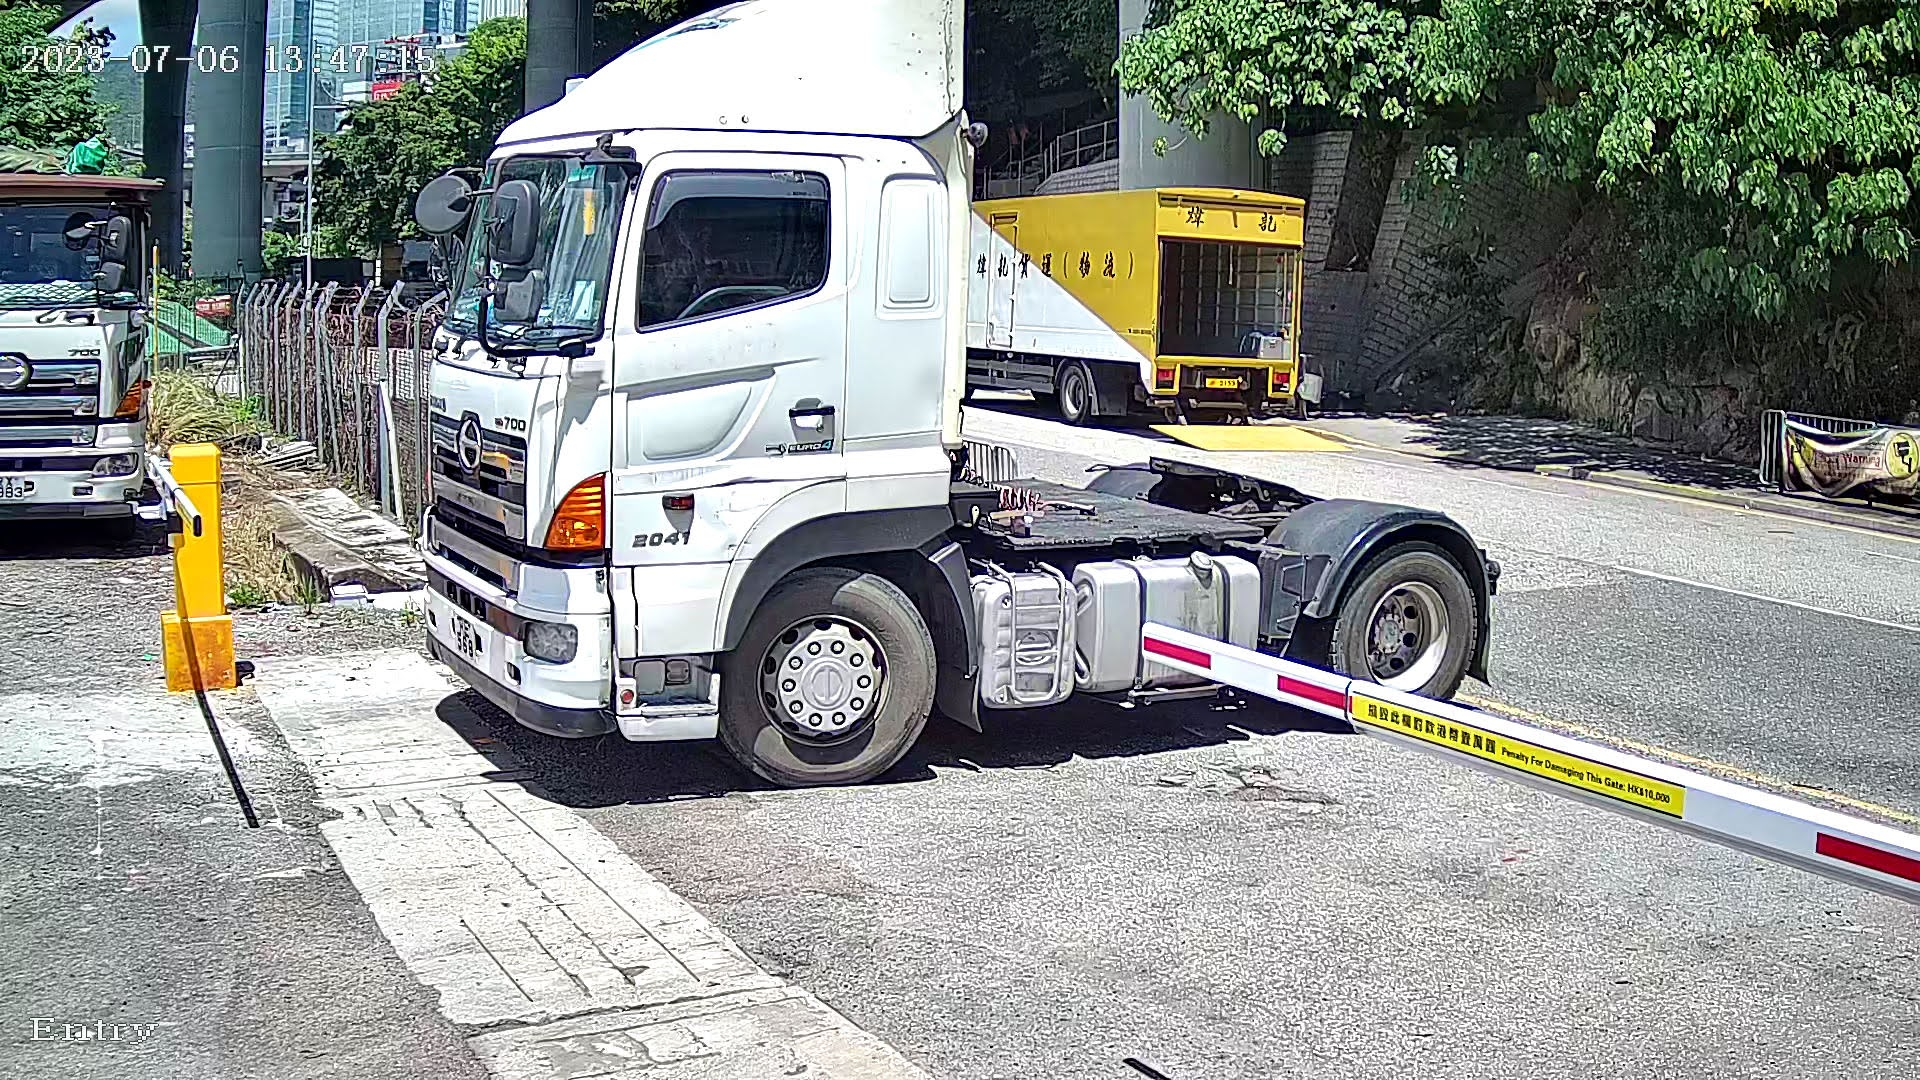tractor: (405, 1, 1588, 799)
